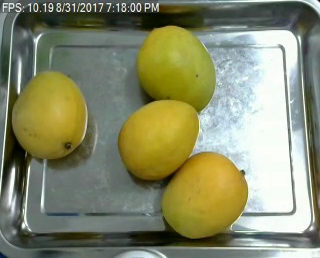Mango: (160, 152, 250, 238), (10, 70, 87, 162), (136, 24, 215, 110), (117, 100, 200, 181)
